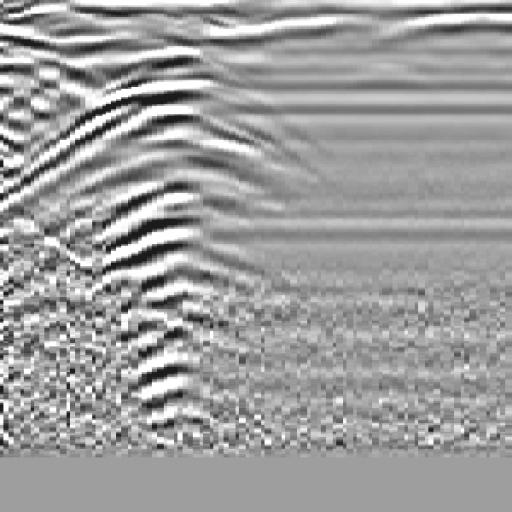metalic: (1, 35, 386, 451)
